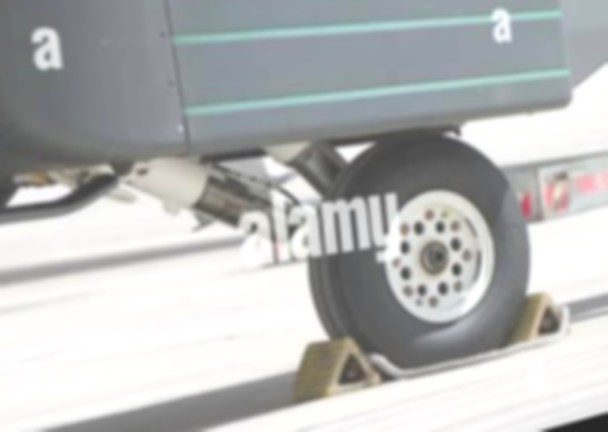chock: (285, 329, 381, 405), (495, 286, 574, 356)
wheel: (295, 114, 538, 389)
